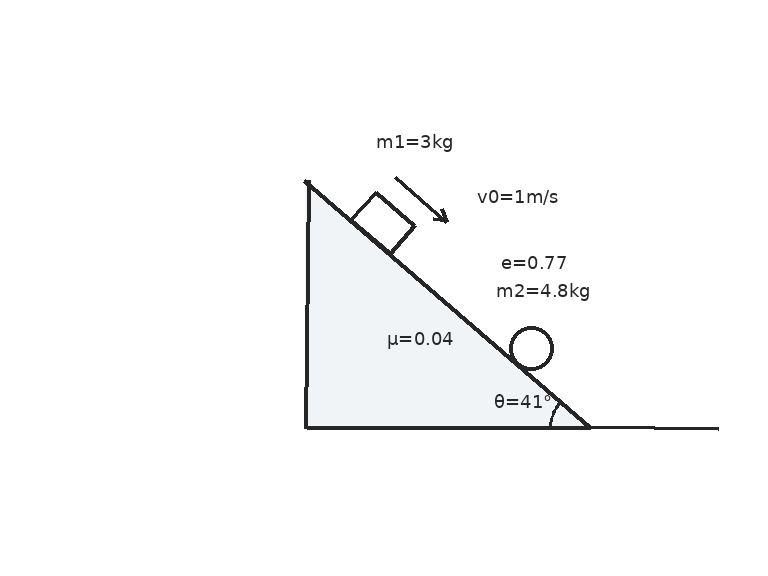ball: (507, 324, 555, 372)
block: (349, 190, 416, 255)
ramp: (303, 179, 592, 430)
